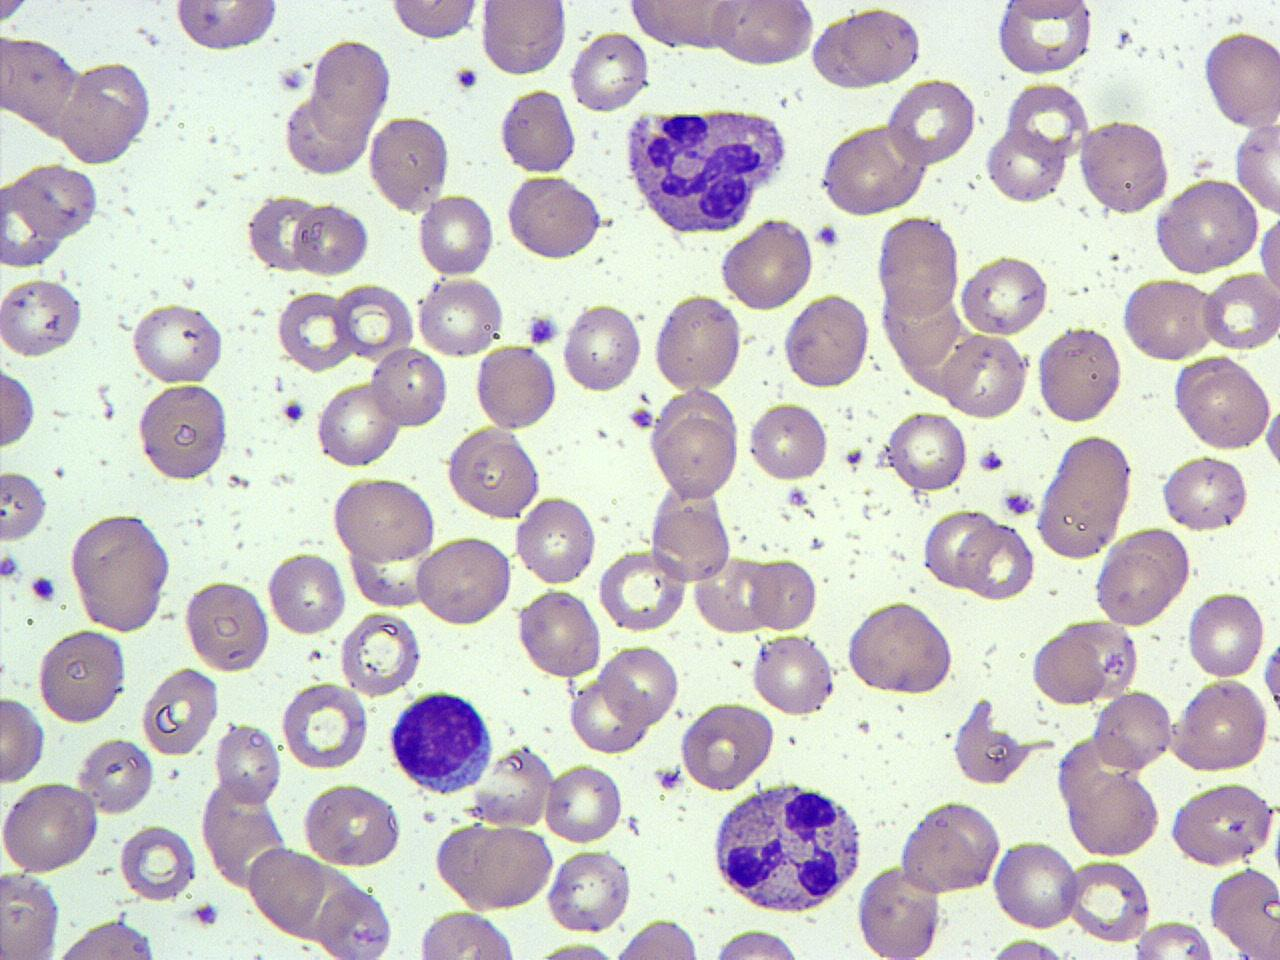Platelets: (526, 312, 560, 350), (1001, 489, 1037, 516), (190, 899, 221, 930), (276, 65, 308, 94), (29, 572, 57, 604), (976, 448, 1006, 474), (654, 764, 683, 790), (628, 407, 658, 431), (454, 65, 480, 91), (814, 223, 840, 247), (281, 399, 306, 423), (0, 553, 20, 581), (784, 484, 808, 507), (842, 446, 864, 466), (874, 446, 892, 468), (274, 374, 288, 396)
RBC: (66, 512, 174, 635), (1035, 432, 1135, 560), (844, 598, 957, 697), (1153, 178, 1261, 278), (437, 822, 556, 912), (897, 797, 1005, 896), (1170, 352, 1276, 452), (1169, 676, 1273, 774), (822, 122, 928, 218), (1167, 778, 1277, 868), (330, 472, 436, 564), (718, 214, 814, 315), (136, 382, 231, 484), (1093, 531, 1191, 629), (444, 424, 542, 522), (0, 779, 98, 877), (652, 292, 745, 394), (678, 700, 778, 794), (414, 534, 514, 628), (35, 625, 127, 727), (300, 780, 404, 869), (782, 291, 874, 391), (1076, 117, 1170, 214), (1034, 324, 1124, 425), (502, 173, 604, 261), (876, 214, 961, 318), (853, 864, 945, 960), (990, 836, 1082, 932), (1064, 772, 1164, 860), (182, 576, 270, 676), (366, 113, 452, 214), (278, 678, 369, 772), (885, 75, 977, 167), (1120, 277, 1218, 363), (595, 546, 690, 634), (650, 409, 740, 501), (544, 845, 634, 936), (942, 331, 1032, 422), (128, 302, 225, 386), (956, 254, 1051, 338), (950, 696, 1036, 788), (516, 587, 601, 680), (560, 301, 644, 395), (1201, 29, 1279, 130), (139, 662, 220, 759), (474, 340, 558, 433), (992, 1, 1097, 75), (313, 381, 402, 468), (1067, 856, 1153, 946), (58, 72, 140, 166), (338, 609, 424, 698), (514, 494, 596, 587), (0, 30, 77, 129), (1185, 588, 1267, 680), (497, 84, 578, 177), (311, 37, 395, 126), (833, 5, 924, 87), (266, 548, 348, 639), (1157, 453, 1251, 532), (750, 630, 834, 718), (542, 758, 625, 847), (473, 743, 556, 831), (281, 97, 372, 177), (706, 1, 816, 67), (746, 398, 830, 484), (415, 276, 503, 358), (568, 28, 650, 116), (886, 408, 969, 493), (600, 642, 682, 728), (1092, 687, 1174, 773), (416, 191, 496, 279), (650, 503, 734, 586), (0, 276, 83, 359), (369, 344, 449, 430), (692, 548, 770, 636), (248, 843, 325, 932), (333, 279, 415, 362), (478, 1, 567, 77), (1006, 81, 1088, 163), (274, 288, 354, 372), (77, 734, 156, 818), (1061, 618, 1139, 702), (959, 518, 1037, 602), (568, 674, 648, 755), (19, 161, 101, 240), (211, 720, 284, 808), (1199, 272, 1279, 352), (983, 126, 1065, 204), (293, 199, 371, 279), (119, 823, 195, 904), (246, 192, 320, 274), (624, 0, 742, 51), (316, 884, 396, 958), (920, 508, 994, 588), (172, 0, 279, 54), (1031, 630, 1105, 708), (0, 177, 61, 269), (0, 868, 61, 960), (749, 555, 819, 634), (414, 907, 520, 958), (1232, 120, 1280, 215), (50, 917, 161, 958), (0, 694, 47, 786), (608, 918, 703, 960), (387, 0, 482, 42), (1130, 918, 1218, 960), (0, 469, 49, 544), (0, 363, 38, 452), (996, 0, 1098, 31), (710, 927, 804, 960), (1256, 207, 1280, 315), (980, 935, 1079, 960)
WBC: (622, 102, 792, 236), (708, 778, 866, 917), (384, 688, 497, 798), (440, 824, 554, 914), (418, 904, 523, 959)
